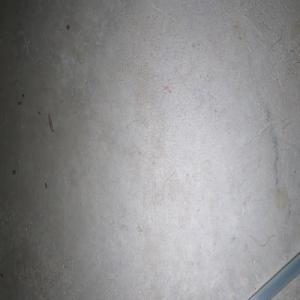Pen: (248, 252, 300, 300)
